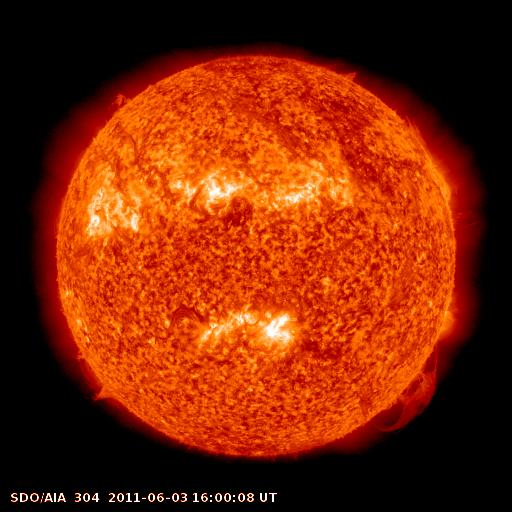prominence: (355, 345, 459, 443), (66, 346, 124, 408), (103, 80, 139, 119), (400, 104, 431, 149), (333, 59, 371, 89)
